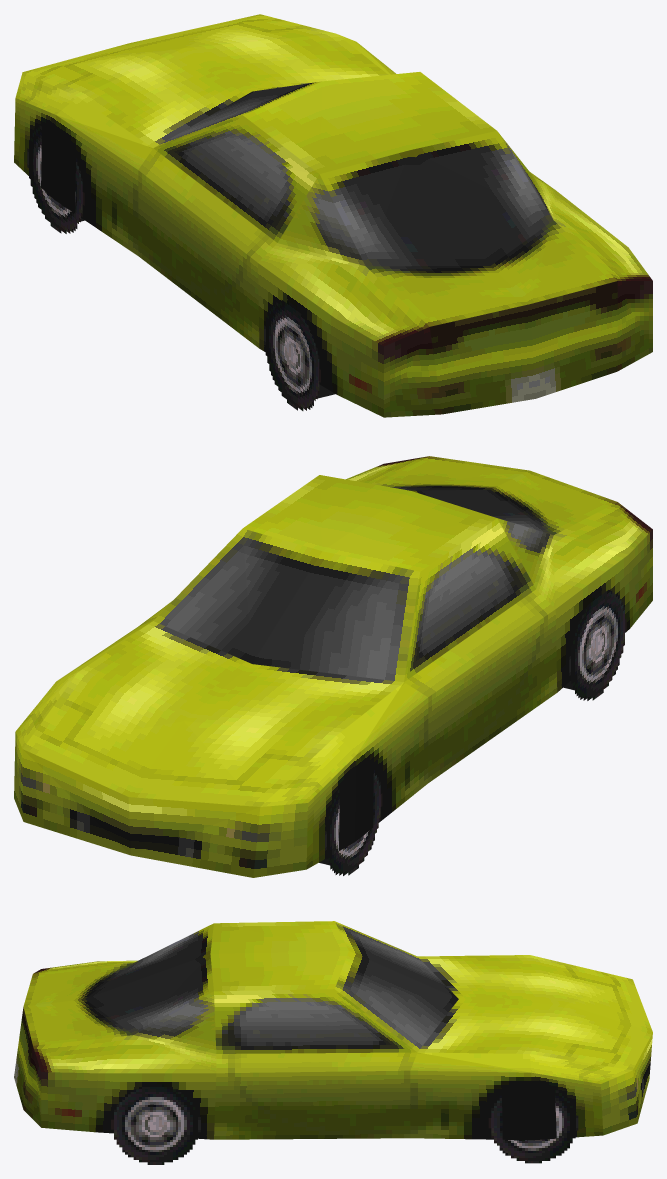
The model's file is car-mrx7.glb.
3 views of the same model, one above another, from view 1: azimuth 30°, elevation 25°; view 2: azimuth 150°, elevation 25°; view 3: azimuth 270°, elevation 25° (orthographic). The views are drawn at different scales.
Visible parts, largest first — view 1: car-mrx7; view 2: car-mrx7; view 3: car-mrx7.
Part boxes in pixels (left/top/right/bottom): car-mrx7: left=14, top=14, right=652, bottom=417; car-mrx7: left=14, top=456, right=652, bottom=877; car-mrx7: left=14, top=921, right=652, bottom=1164.
Bounding box in the file's own units: 1.83 × 1.13 × 4.22.
Materials: 32 (32 with a texture image).
